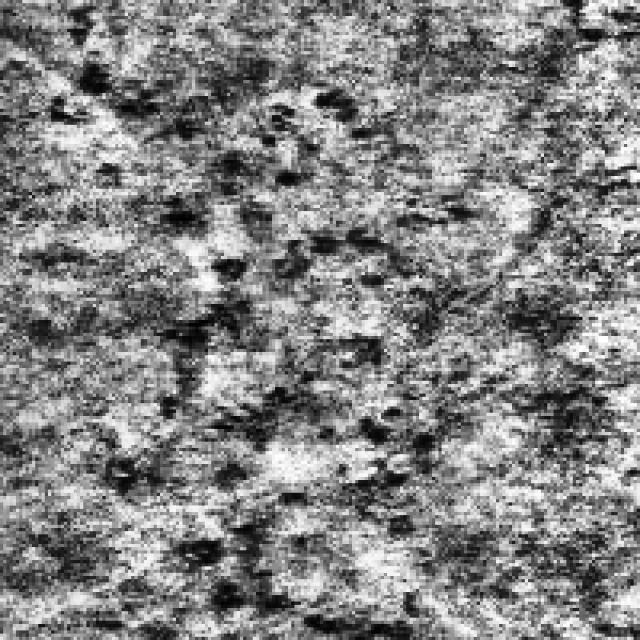Crazing: (118, 224, 420, 627), (48, 32, 397, 368)
